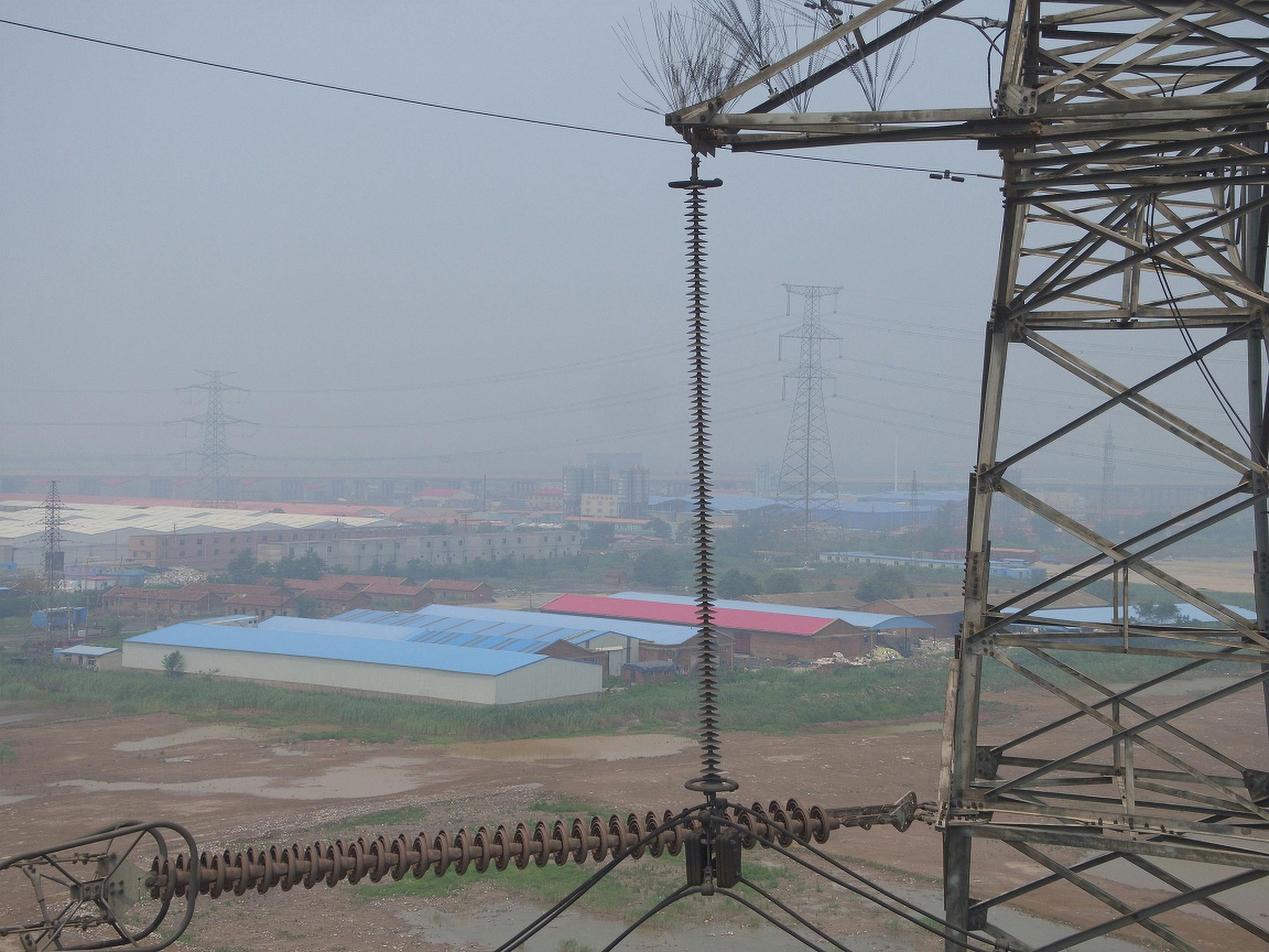insulator: (143, 794, 834, 905), (681, 189, 728, 786)
